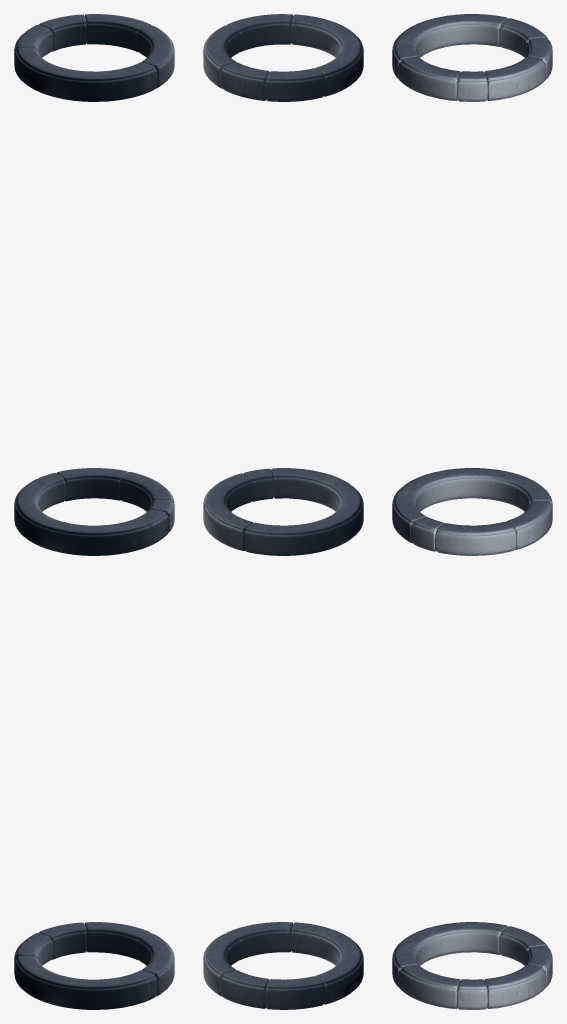
File: transition-rings.glb
3 views of the same model, side by side, from view 1: azimuth 30°, elevation 25°; view 2: azimuth 150°, elevation 25°; view 3: azimuth 270°, elevation 25° (orthographic).
Parts seen in each view (by area): view 1: Ring 02 · Arc 01, Ring 03 · Arc 02, Ring 01 · Arc 02, Ring 02 · Arc 02, Ring 03 · Arc 05, Ring 01 · Arc 05, Ring 02 · Arc 04, Ring 01 · Arc 03, Ring 03 · Arc 03, Ring 01 · Arc 04, Ring 03 · Arc 04, Ring 01 · Arc 01 (+4 smaller); view 2: Ring 02 · Arc 01, Ring 01 · Arc 02, Ring 03 · Arc 02, Ring 01 · Arc 01, Ring 03 · Arc 01, Ring 01 · Arc 04, Ring 03 · Arc 04, Ring 02 · Arc 02, Ring 01 · Arc 03, Ring 03 · Arc 03, Ring 02 · Arc 04, Ring 03 · Arc 05 (+4 smaller); view 3: Ring 02 · Arc 01, Ring 01 · Arc 02, Ring 03 · Arc 02, Ring 02 · Arc 04, Ring 01 · Arc 05, Ring 03 · Arc 05, Ring 01 · Arc 04, Ring 03 · Arc 04, Ring 02 · Arc 02, Ring 01 · Arc 01, Ring 03 · Arc 01, Ring 01 · Arc 06 (+4 smaller).
Boxes of the visible parts, left/top/right/bottom form: Ring 02 · Arc 01: left=14, top=473, right=169, bottom=555; Ring 03 · Arc 02: left=14, top=955, right=157, bottom=1009; Ring 01 · Arc 02: left=14, top=47, right=157, bottom=101; Ring 02 · Arc 02: left=57, top=468, right=127, bottom=501; Ring 03 · Arc 05: left=85, top=922, right=151, bottom=960; Ring 01 · Arc 05: left=85, top=14, right=151, bottom=52; Ring 02 · Arc 04: left=119, top=472, right=174, bottom=511; Ring 01 · Arc 03: left=39, top=14, right=86, bottom=51; Ring 03 · Arc 03: left=39, top=922, right=86, bottom=959; Ring 01 · Arc 04: left=141, top=36, right=174, bottom=88; Ring 03 · Arc 04: left=142, top=944, right=174, bottom=996; Ring 01 · Arc 01: left=14, top=25, right=53, bottom=57; Ring 02 · Arc 01: left=244, top=468, right=363, bottom=555; Ring 01 · Arc 02: left=291, top=14, right=363, bottom=96; Ring 03 · Arc 02: left=291, top=922, right=363, bottom=1004; Ring 01 · Arc 01: left=265, top=68, right=325, bottom=101; Ring 03 · Arc 01: left=265, top=976, right=325, bottom=1009; Ring 01 · Arc 04: left=226, top=14, right=292, bottom=52; Ring 03 · Arc 04: left=226, top=922, right=292, bottom=960; Ring 02 · Arc 02: left=203, top=502, right=252, bottom=550; Ring 01 · Arc 03: left=220, top=62, right=269, bottom=100; Ring 03 · Arc 03: left=220, top=970, right=269, bottom=1008; Ring 02 · Arc 04: left=203, top=473, right=253, bottom=519; Ring 03 · Arc 05: left=203, top=944, right=236, bottom=996; Ring 02 · Arc 01: left=392, top=468, right=552, bottom=543; Ring 01 · Arc 02: left=392, top=14, right=507, bottom=79; Ring 03 · Arc 02: left=392, top=922, right=507, bottom=987; Ring 02 · Arc 04: left=435, top=521, right=516, bottom=555; Ring 01 · Arc 05: left=484, top=56, right=546, bottom=100; Ring 03 · Arc 05: left=484, top=964, right=546, bottom=1008; Ring 01 · Arc 04: left=398, top=56, right=460, bottom=100; Ring 03 · Arc 04: left=398, top=964, right=460, bottom=1008; Ring 02 · Arc 02: left=506, top=500, right=552, bottom=549; Ring 01 · Arc 01: left=499, top=18, right=548, bottom=57; Ring 03 · Arc 01: left=499, top=926, right=548, bottom=965; Ring 01 · Arc 06: left=457, top=71, right=487, bottom=101.
Size of the model in its own units: 0.8012 by 5.13 by 0.801.
2 materials, 2 textured.
